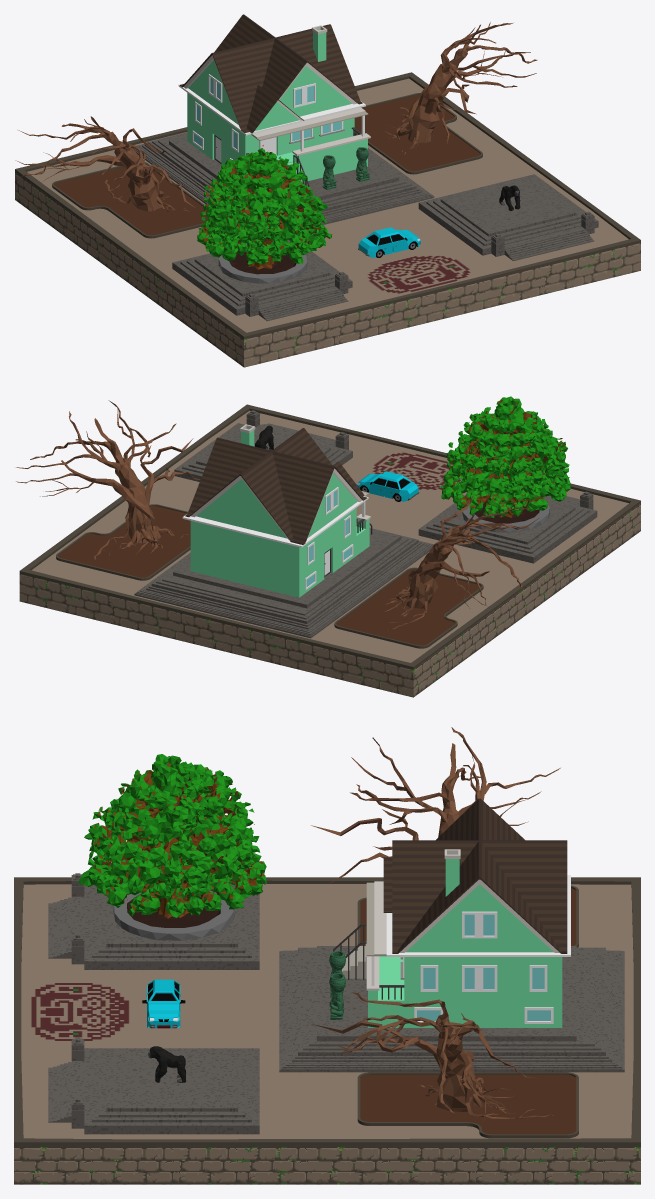
3 views of the same model, one above another, from view 1: azimuth 30°, elevation 25°; view 2: azimuth 150°, elevation 25°; view 3: azimuth 270°, elevation 25° (orthographic). The views are drawn at different scales.
Parts seen in each view (by area): view 1: Cube.011, Cube.352, OBJRANDOM_CEIBA, VEHICLES_CAR; view 2: Cube.011, Cube.352, OBJRANDOM_CEIBA, VEHICLES_CAR; view 3: Cube.011, Cube.352, OBJRANDOM_CEIBA, VEHICLES_CAR, ANIMAL_GORILA.
Part boxes in pixels (x1,y1,x2,y2): Cube.011: (15,22,640,367); Cube.352: (178,14,370,186); OBJRANDOM_CEIBA: (197,148,332,283); VEHICLES_CAR: (358,227,420,257); Cube.011: (16,400,640,697); Cube.352: (182,424,372,597); OBJRANDOM_CEIBA: (440,396,570,532); VEHICLES_CAR: (356,471,419,501); Cube.011: (14,727,640,1184); Cube.352: (333,798,570,1027); OBJRANDOM_CEIBA: (78,754,266,940); VEHICLES_CAR: (142,979,185,1028); ANIMAL_GORILA: (148,1046,185,1082).
Bounding box in the file's own units: 5099 × 1676 × 4000.
36 materials, 5 textured.
